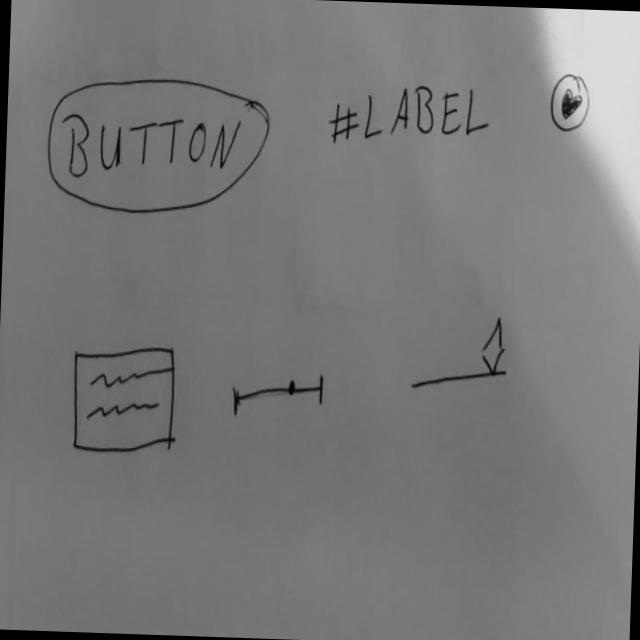button: (44, 72, 274, 222)
icon-button: (549, 70, 594, 137)
label: (327, 79, 494, 156)
number-input: (407, 310, 512, 399)
slider: (231, 368, 328, 424)
textarea: (69, 343, 178, 460)
